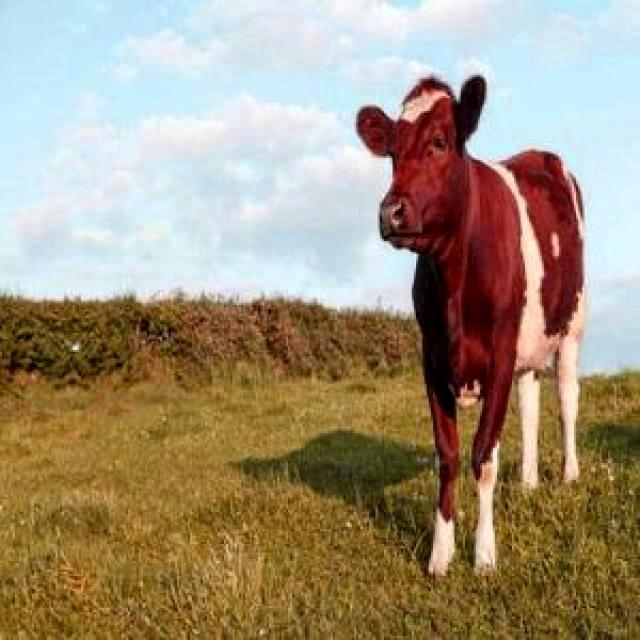COW: (356, 76, 585, 575)
